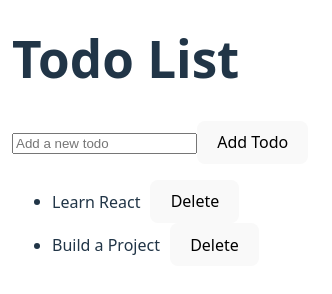
TodoList Component › can add a new todo
Step 1. Type "New Todo Item" into the field with placeholder "Add a new todo" → [104, 144], box [12,133,197,154]
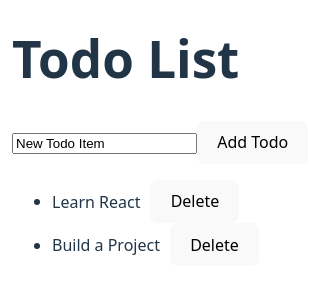
Step 2. Click the button "Add Todo" → [253, 142], box [197,121,308,164]
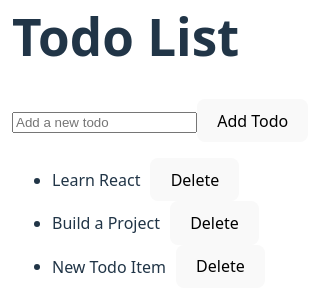
Check: the text "New Todo Item" is shown, box [52,255,166,277]
